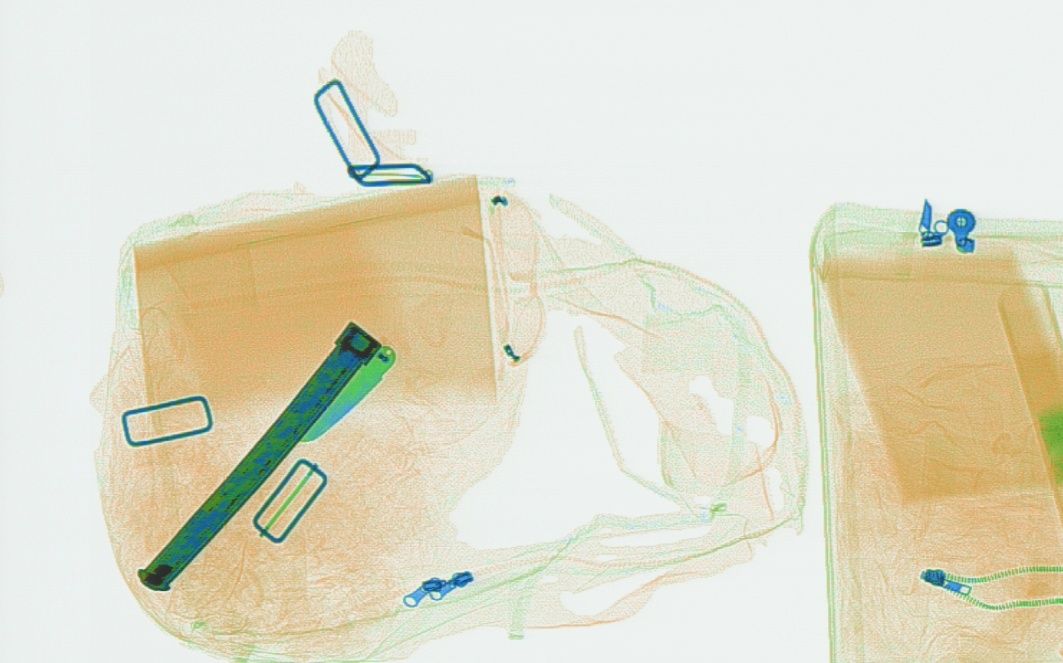firecrackers: (993, 280, 1058, 515)
knife: (293, 337, 396, 443)
